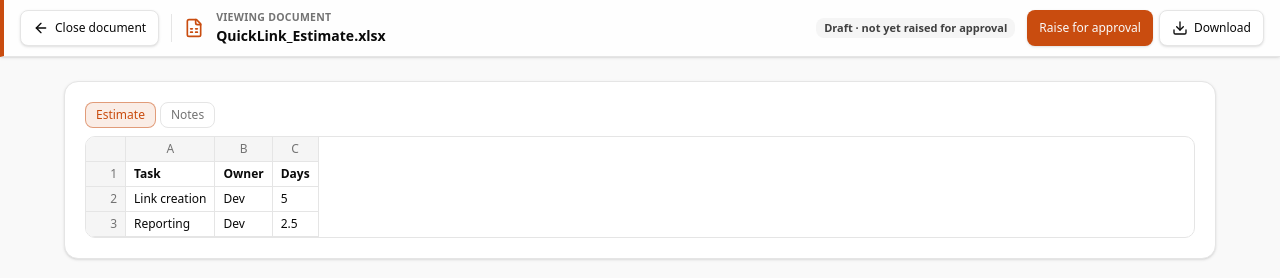
DocumentPreview — a spreadsheet › switches sheets with its tabs
This screenshot has width=1280, height=278.
expect the text "Link creation" is shown: met, box x1=126 y1=187 x2=215 y2=212
What coordinates should you click on to do the following:
click the tab "Notes"
I would click on:
 (188, 115)
Its box is x1=160 y1=102 x2=215 y2=128.
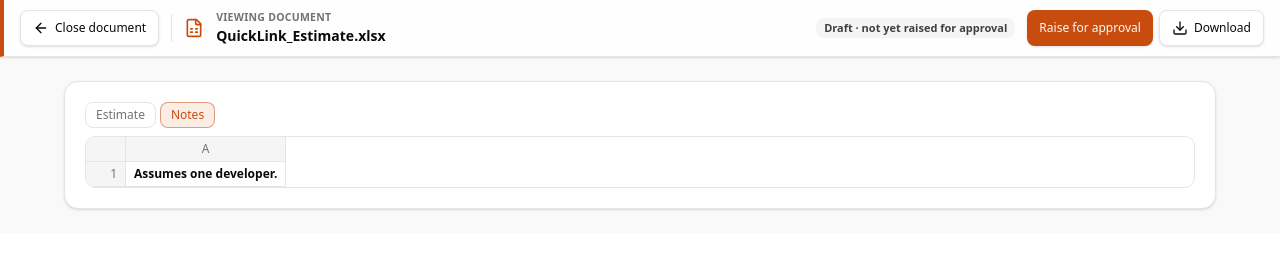
expect the text "Assumes one developer." is shown: met, box x1=126 y1=162 x2=286 y2=187
expect the text "Link creation" is gone: met
